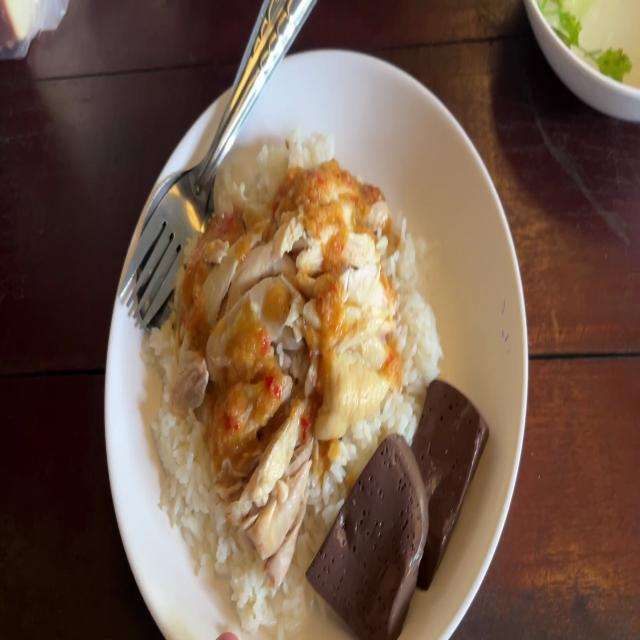chicken_rice: (201, 180, 383, 469)
noodle: (310, 431, 424, 635), (404, 381, 480, 590)
